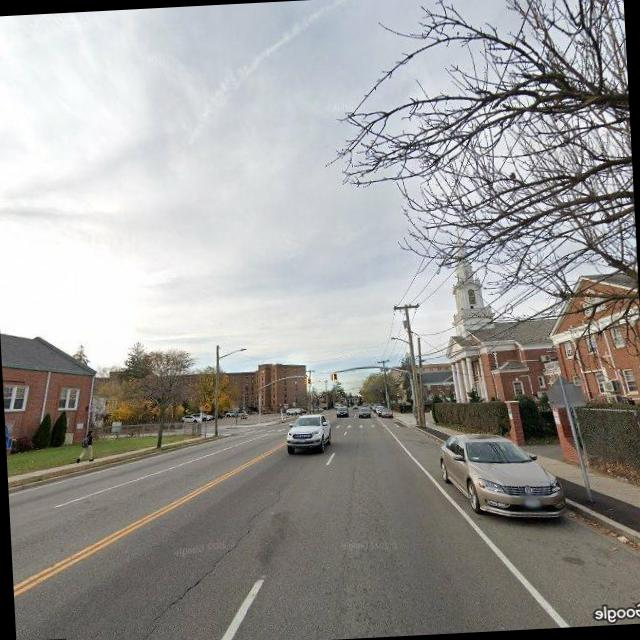crack: (133, 491, 290, 637)
